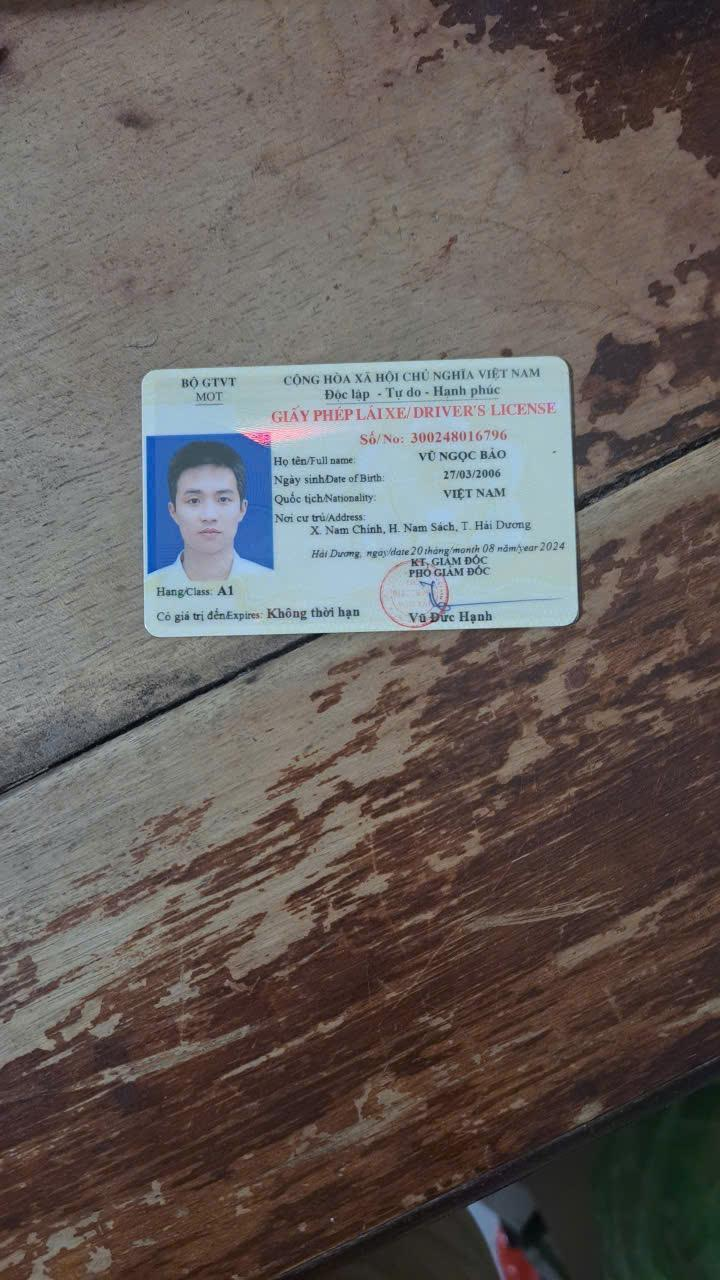gplx: (134, 349, 585, 643)
